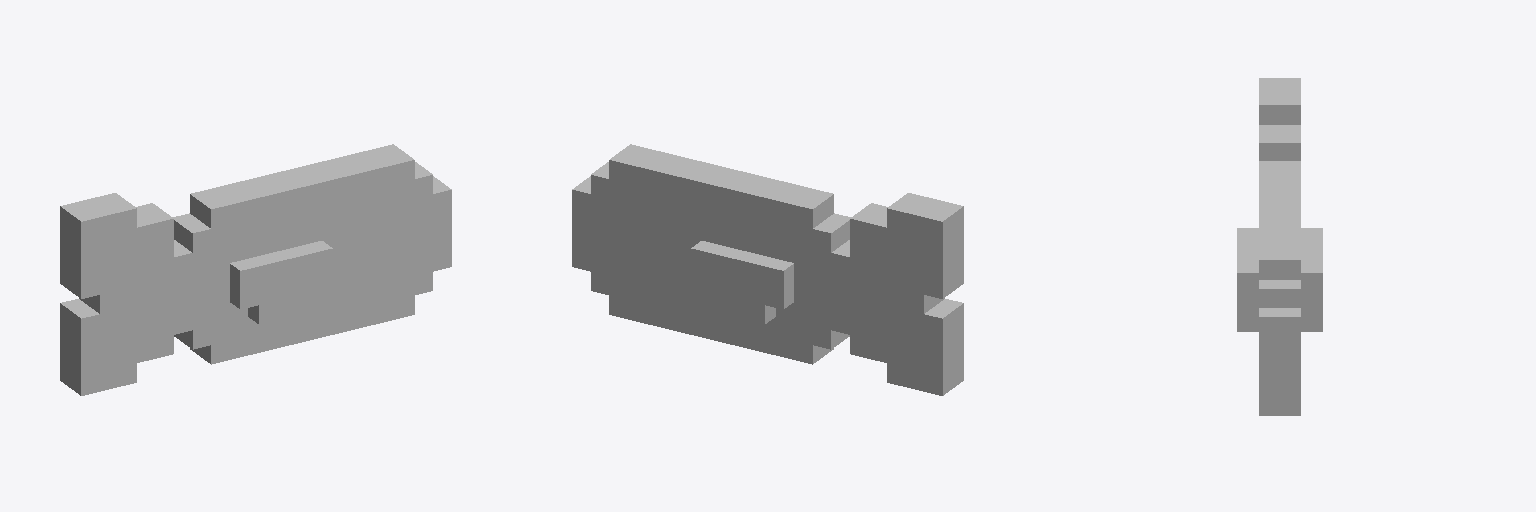
File: SL_Fish.obj
3 views of the same model, side by side, from view 1: azimuth 30°, elevation 25°; view 2: azimuth 150°, elevation 25°; view 3: azimuth 270°, elevation 25° (orthographic).
Visible parts, largest first — view 1: SL_Fish; view 2: SL_Fish; view 3: SL_Fish.
Boxes of the visible parts, x1=… form: SL_Fish: x1=60, y1=144, x2=451, y2=395; SL_Fish: x1=572, y1=144, x2=963, y2=395; SL_Fish: x1=1237, y1=78, x2=1322, y2=415.
Size of the model in its own units: 20 by 9 by 4.